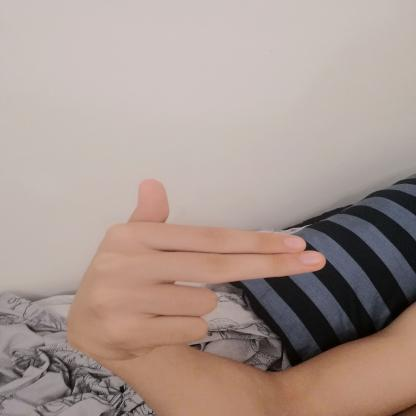GHAYN: (52, 170, 340, 369)
